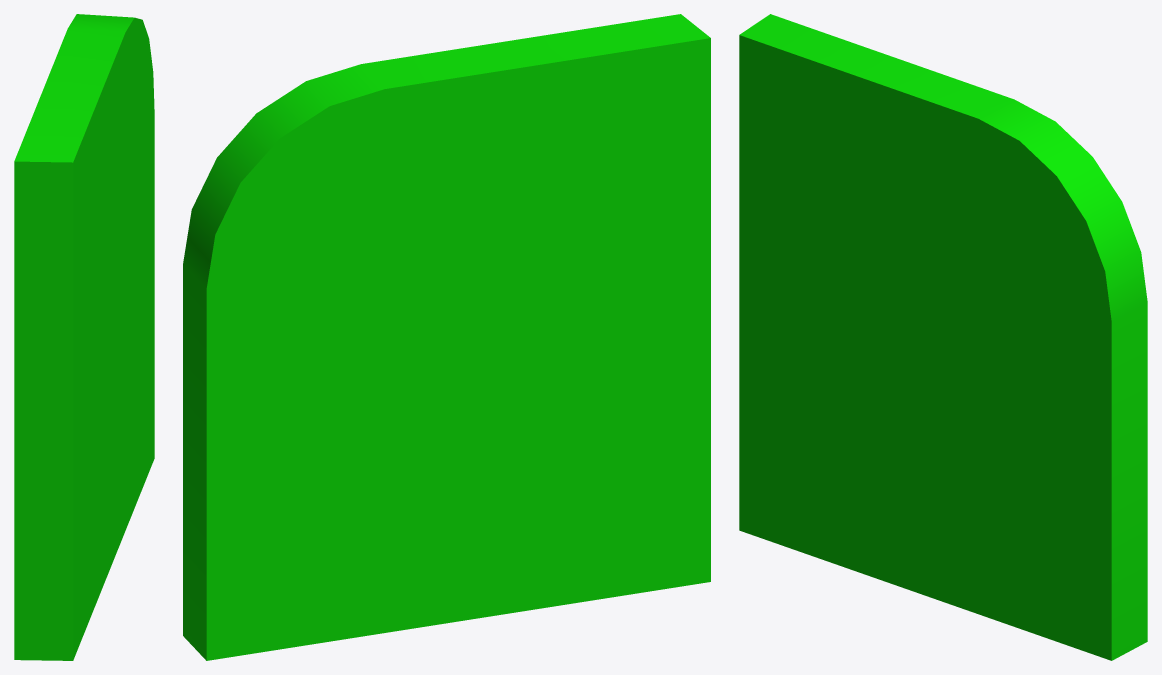
File: sm_castle_045.fbx
3 views of the same model, side by side, from view 1: azimuth 30°, elevation 25°; view 2: azimuth 150°, elevation 25°; view 3: azimuth 270°, elevation 25° (orthographic). The views are drawn at different scales.
Visible parts, largest first — view 1: sm_castle.045; view 2: sm_castle.045; view 3: sm_castle.045.
Boxes of the visible parts, <box> form: sm_castle.045: <box>14,14,154,660</box>; sm_castle.045: <box>183,14,710,660</box>; sm_castle.045: <box>739,14,1147,660</box>.
Bounding box in the file's own units: 370 × 565 × 422.
